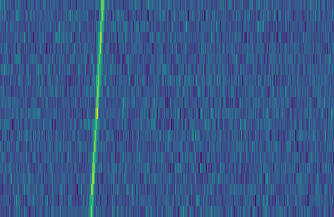signal: (84, 0, 105, 217)
